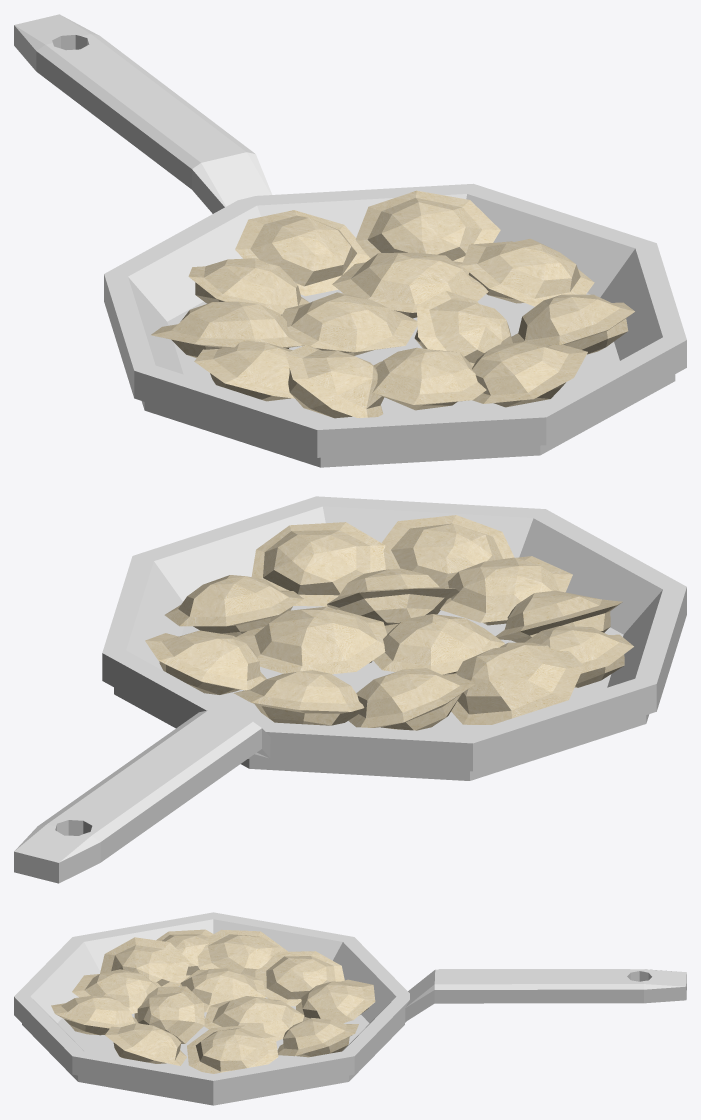
Rendered from pan.fbx.
The picture shows the model from 3 angles, top to bottom: view 1: azimuth 30°, elevation 25°; view 2: azimuth 150°, elevation 25°; view 3: azimuth 270°, elevation 25°; orthographic projection. The views are drawn at different scales.
Visible parts, largest first — view 1: PanFull, Pelmen.002; view 2: PanFull, Pelmen.002; view 3: PanFull, Pelmen.002.
Part boxes in pixels (bbox=[...]): PanFull: bbox=[14, 14, 686, 467]; Pelmen.002: bbox=[151, 190, 635, 418]; PanFull: bbox=[14, 496, 686, 883]; Pelmen.002: bbox=[145, 515, 633, 730]; PanFull: bbox=[14, 912, 686, 1105]; Pelmen.002: bbox=[51, 929, 375, 1073].
Size of the model in its own units: 1.15 by 0.1511 by 1.94.
